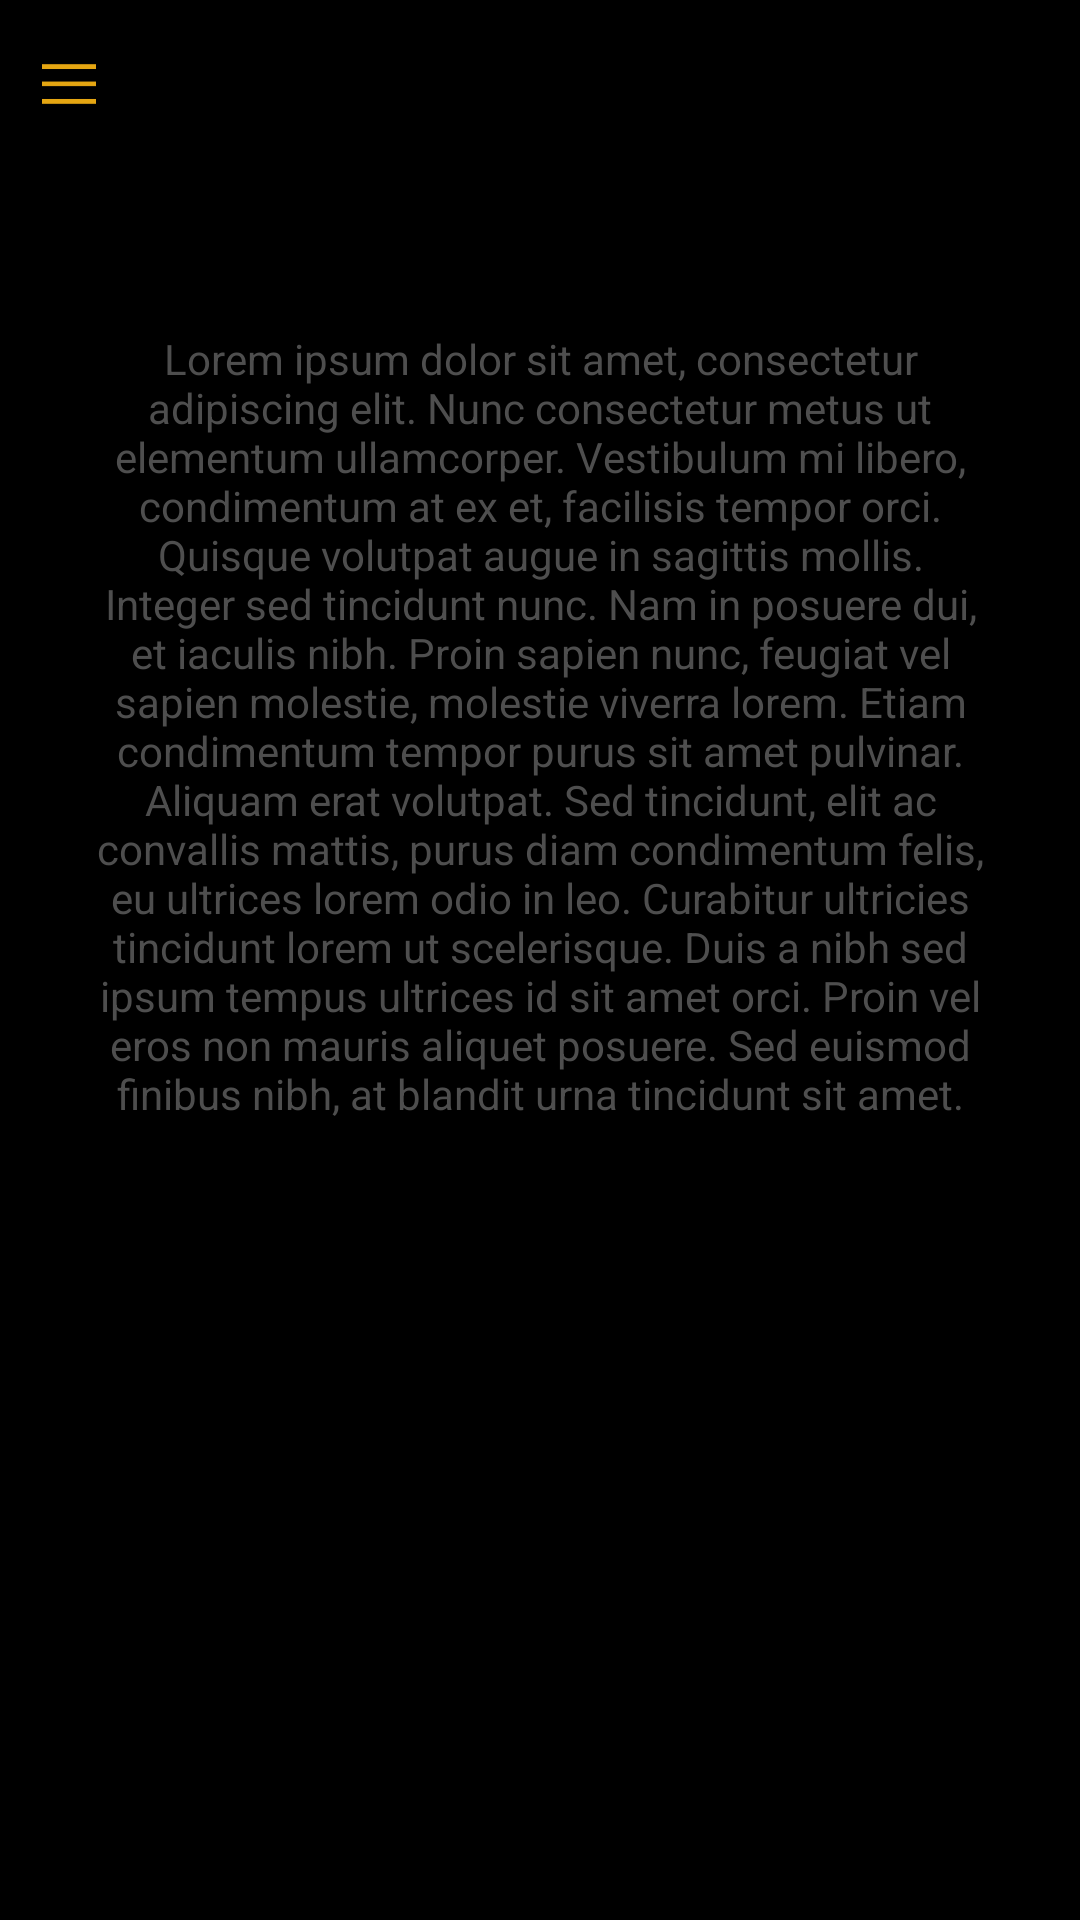

Icons on this 1080 × 1920 Android screen, each with its box as BBox(x1, y1, x2, y2):
menu: BBox(42, 64, 96, 104)
